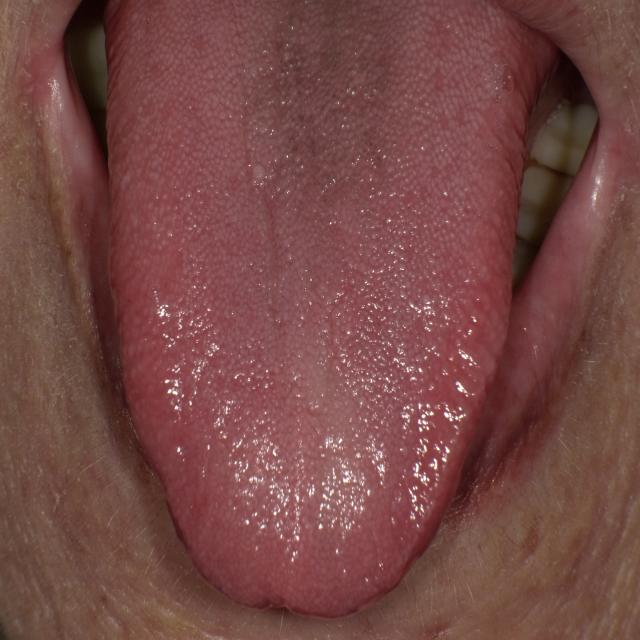baitaishe: (101, 1, 552, 620)
heitaishe: (101, 1, 552, 621)
hongshe: (101, 1, 552, 621)
huataishe: (231, 456, 349, 564)
